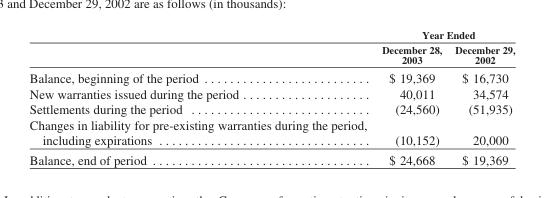table: (28, 28, 514, 166)
table column: (28, 28, 373, 166), (373, 28, 447, 166), (447, 28, 514, 166)
table column header: (28, 28, 514, 68)
table row: (28, 116, 514, 149), (28, 41, 514, 68), (28, 68, 514, 85), (28, 149, 514, 166), (28, 85, 514, 101), (28, 101, 514, 116), (28, 28, 514, 41)
table spanning cell: (373, 28, 514, 41)
